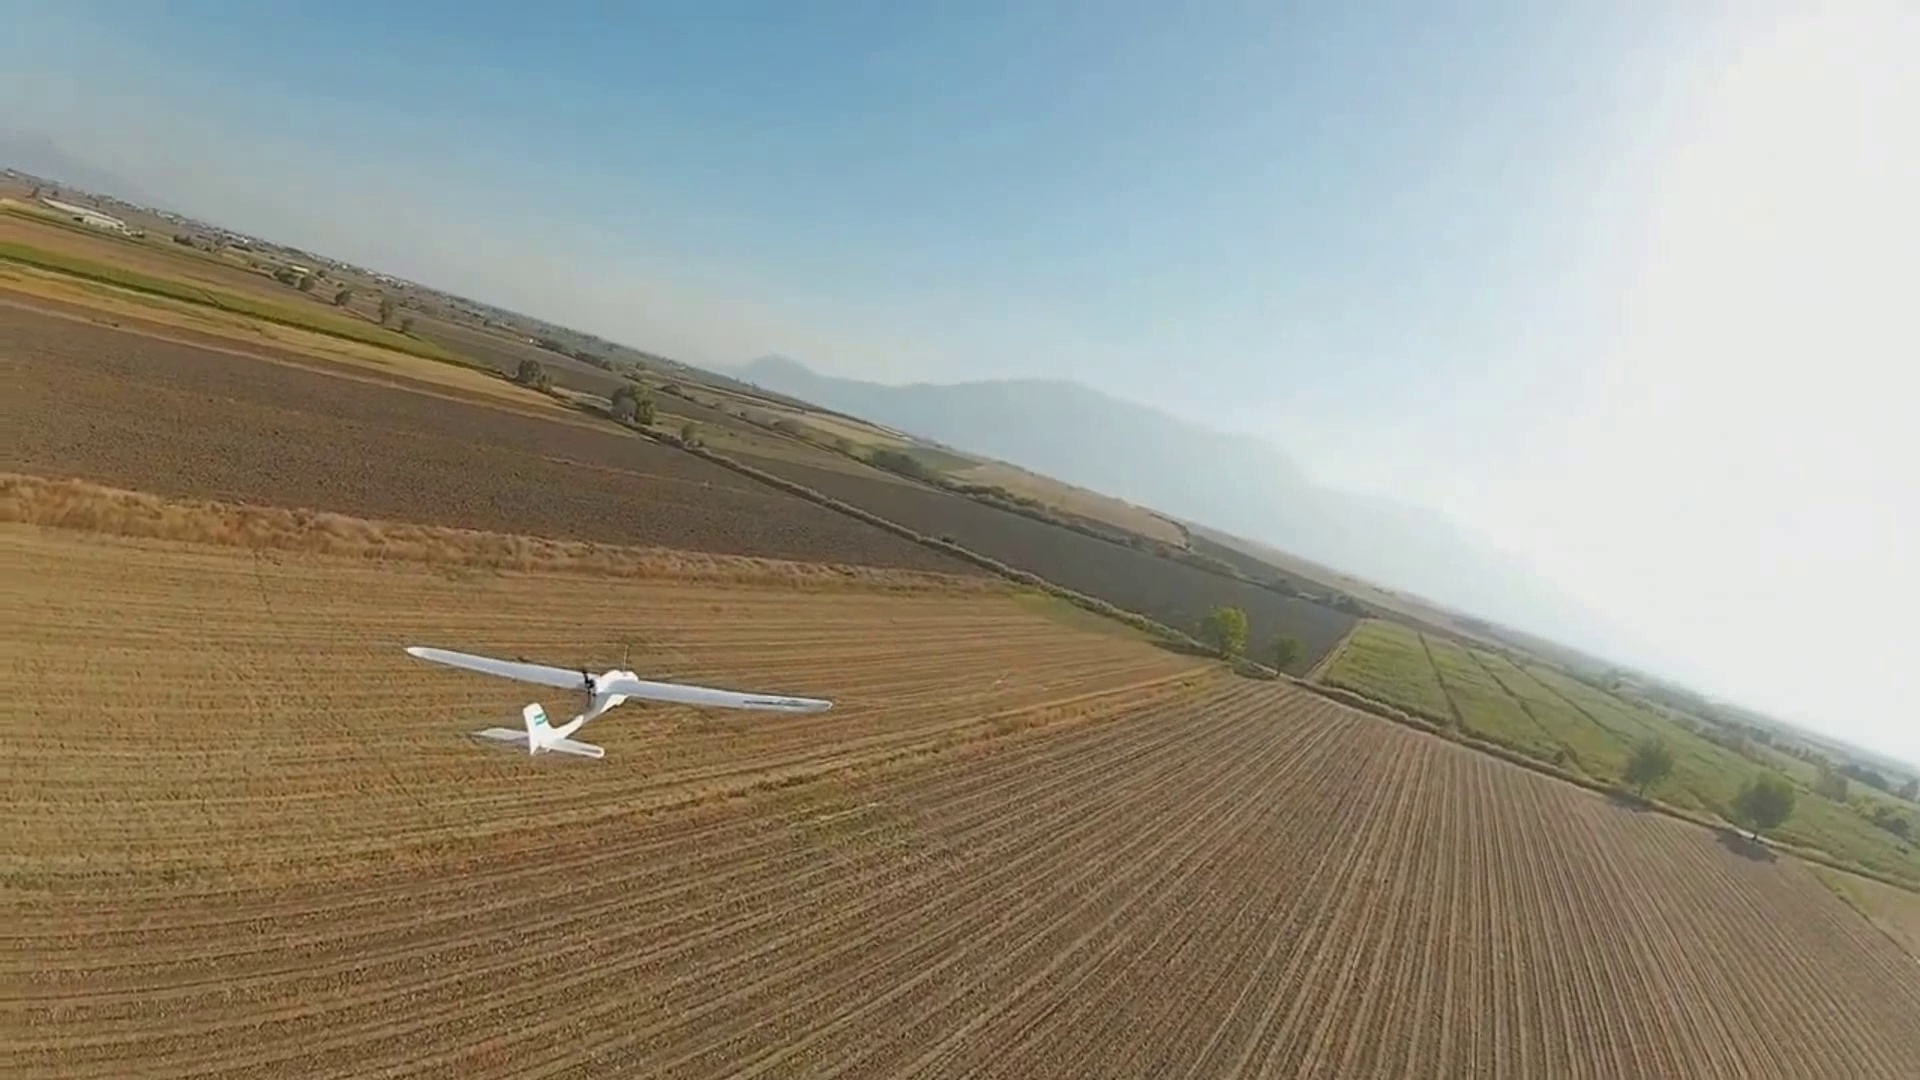airplane: (407, 647, 832, 762)
